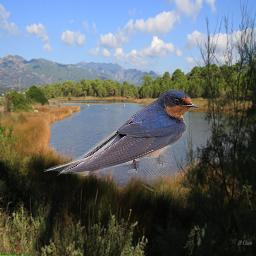Swallow: (44, 88, 199, 176)
